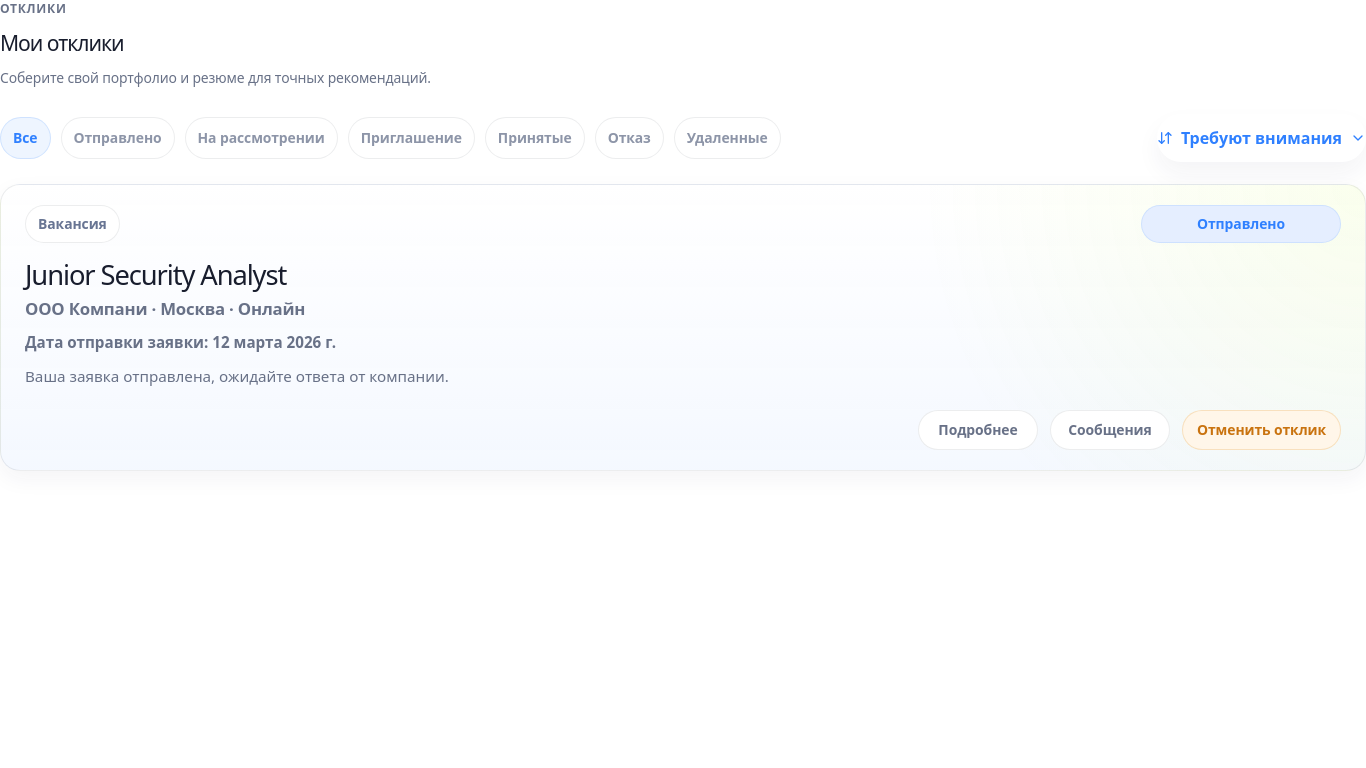
CandidateResponsesApp › withdraws an application and removes the candidate action
Click the button "Отменить отклик" at [1262, 430], box [1182,410,1341,450]
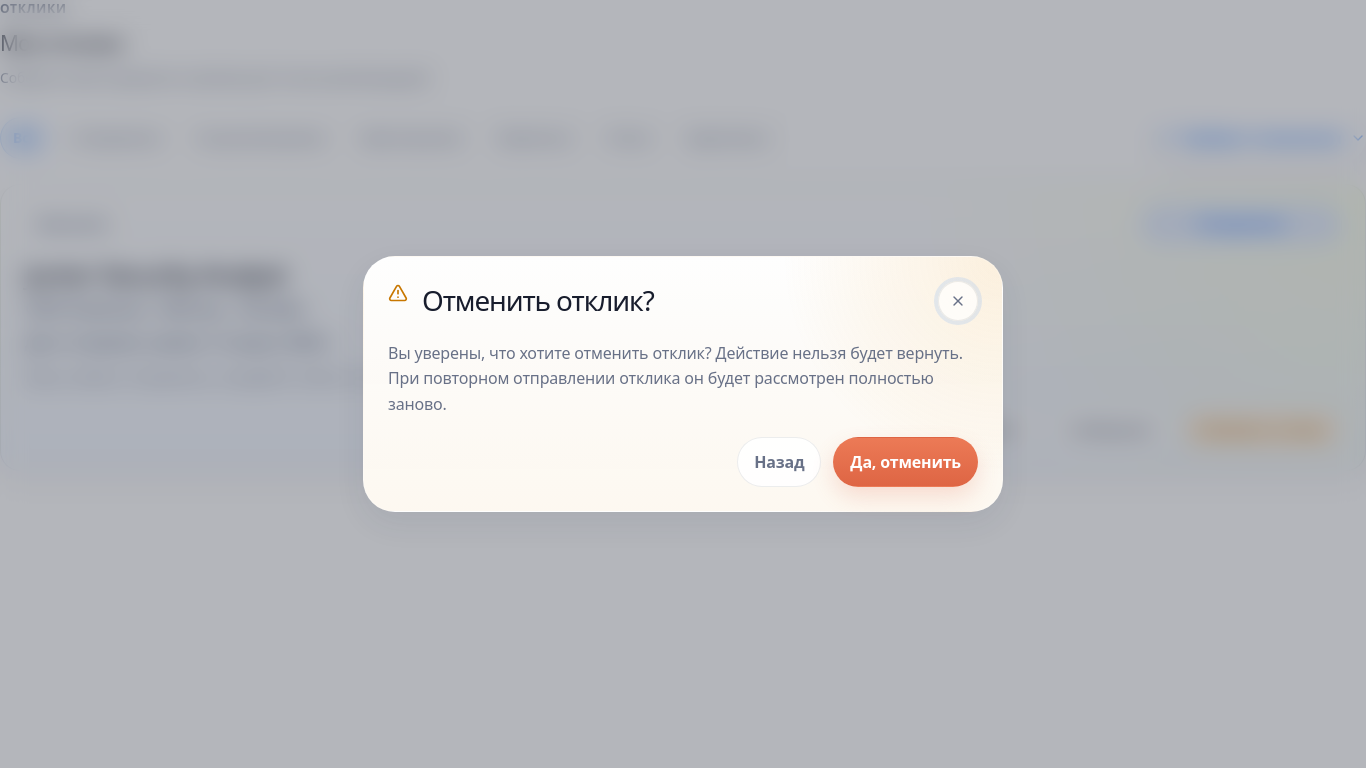
Click the button "Да, отменить" at [906, 462], box [833,437,978,487]
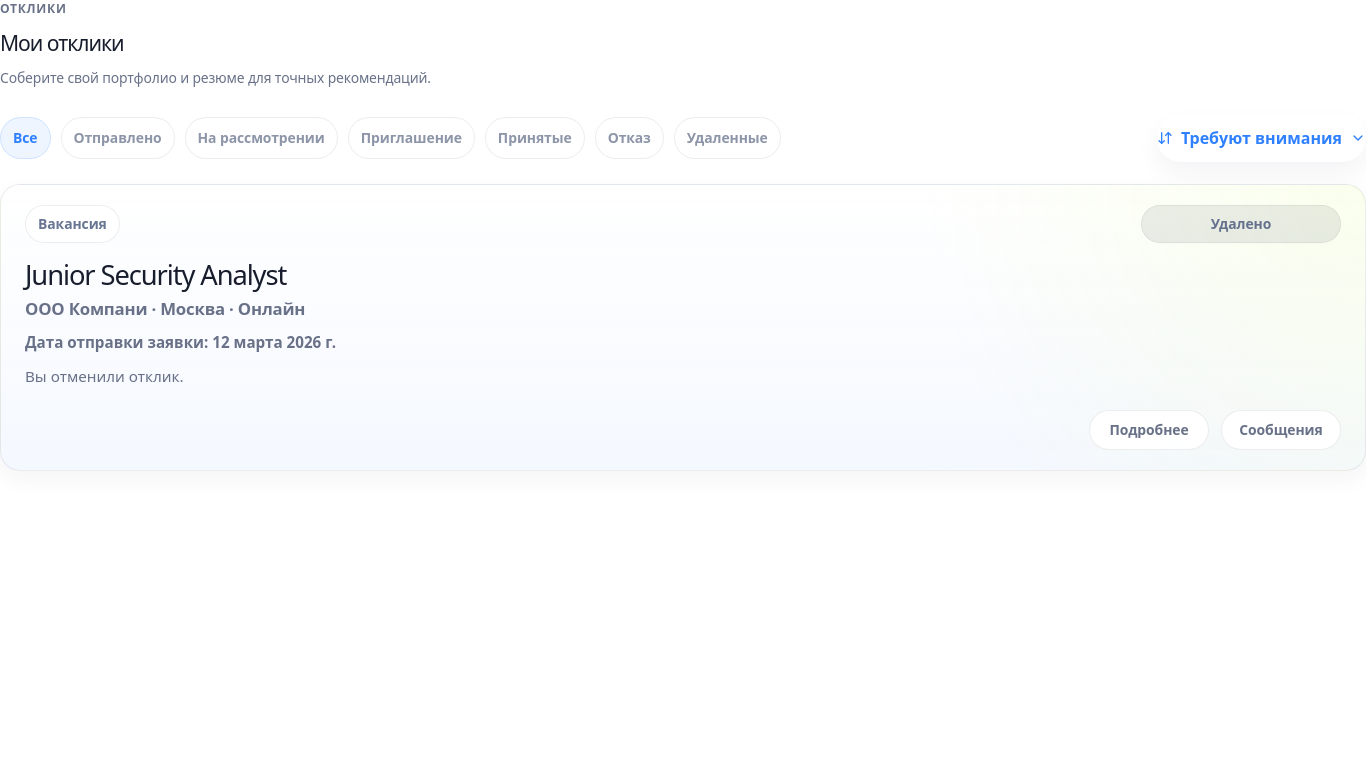
Check: the text "Удалено" is shown, box [1211,214,1271,234]
Check: the text "Вы отменили отклик." is shown, box [25,366,184,386]
Check: the button "Отменить отклик" is gone
